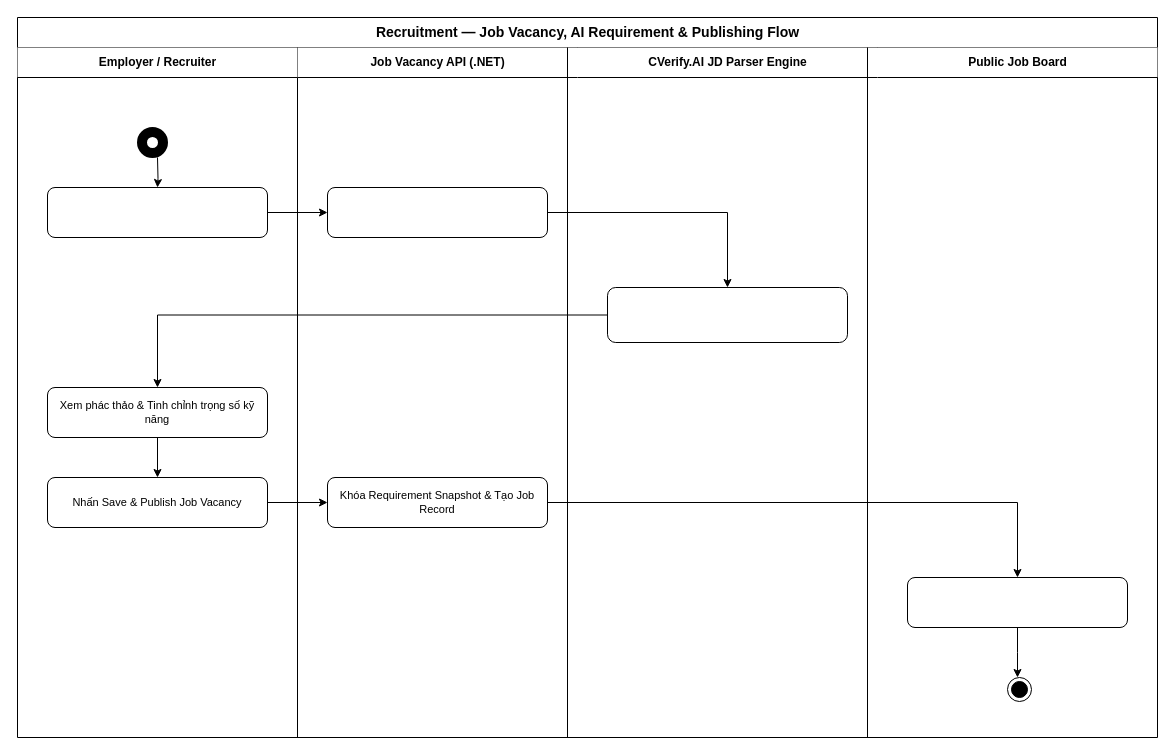
This 1175x756 diagram has some shape labels left out. The centre of each missing label's shape, as x and y in pixels:
"AI bóc tách Skill Must-have, Nice-to-have & Khung tiêu chuẩn chấm điểm" goes at point (727, 314).
"Gửi JD text yêu cầu trích xuất tiêu chuẩn" goes at point (437, 212).
"Nhập tiêu đề & Dán văn bản Mô tả công việc (JD thô)" goes at point (157, 212).
"Xuất bản tin tuyển dụng lên Public Job Board (/jobs)" goes at point (1017, 602).
